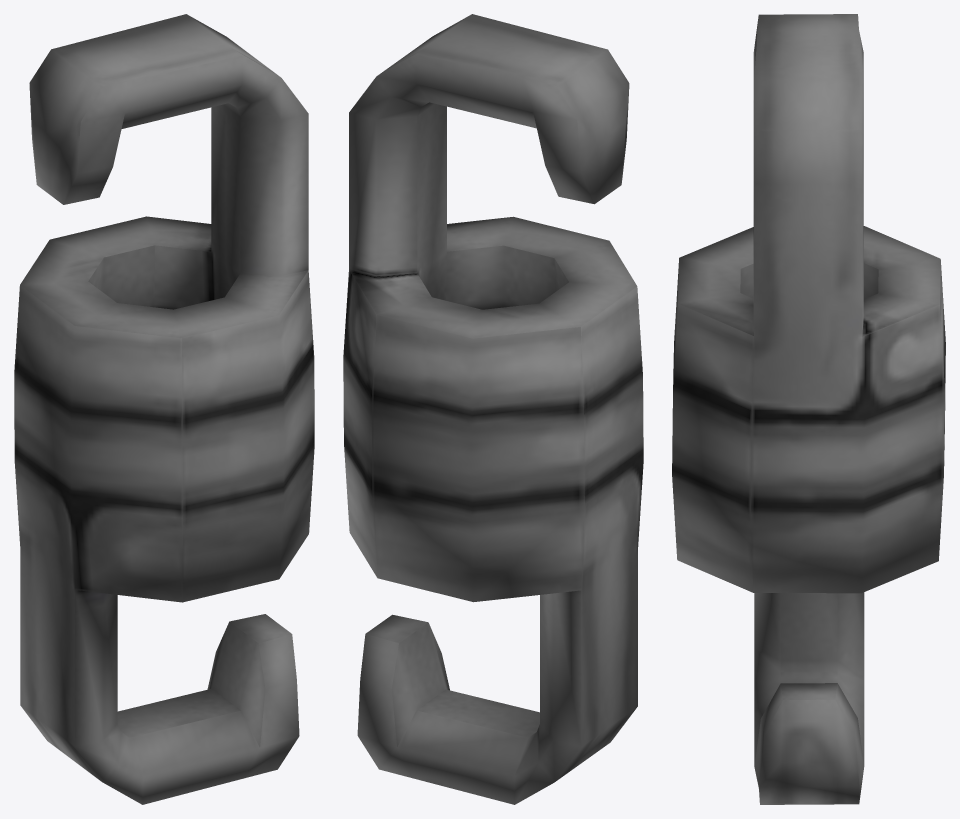
Rendered from Bunker-Sping.fbx.
The picture shows the model from 3 angles, left to right: view 1: azimuth 30°, elevation 25°; view 2: azimuth 150°, elevation 25°; view 3: azimuth 270°, elevation 25°; orthographic projection. The views are drawn at different scales.
Parts seen in each view (by area): view 1: Cylinder.002; view 2: Cylinder.002; view 3: Cylinder.002.
Boxes of the visible parts, box(x1,y1,x2,y2) form: Cylinder.002: box(14, 14, 314, 804); Cylinder.002: box(343, 14, 643, 804); Cylinder.002: box(672, 14, 945, 804).
Bounding box in the file's own units: 19.28 × 55.12 × 19.35.
